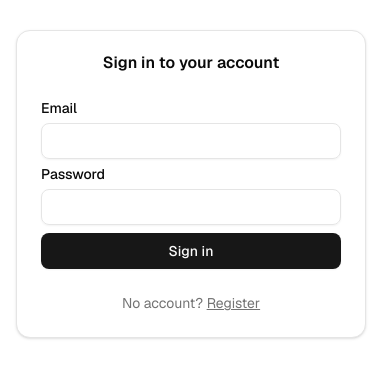
Test case: LoginPage › shows an error message when login fails
Expected: the password field labelled "Password" is shown, [41,189,341,225]
Expected: the button "Sign in" is shown, [41,233,341,269]
In the field labelled "Email": (191, 141) [41,123,341,159], type "user@example.com"
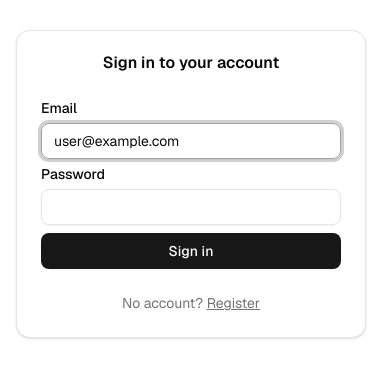
In the password field labelled "Password": (191, 207) [41,189,341,225], type "strongPassword"
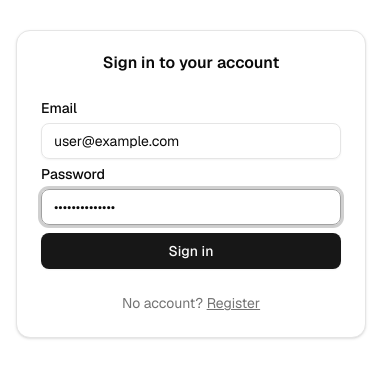
Click the button "Sign in": (191, 251) [41,233,341,269]
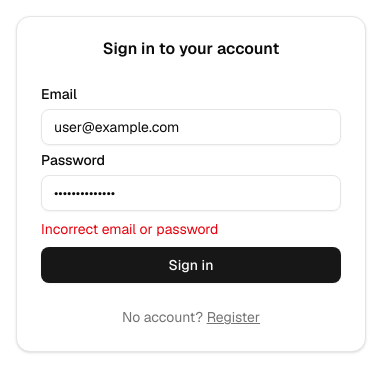
Expected: the text "Incorrect email or password" is shown, [41,220,218,238]
